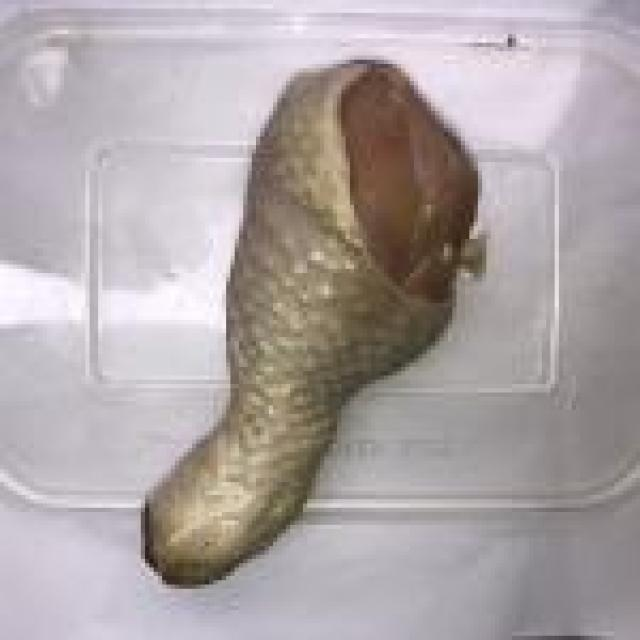leg: (177, 54, 467, 602)
